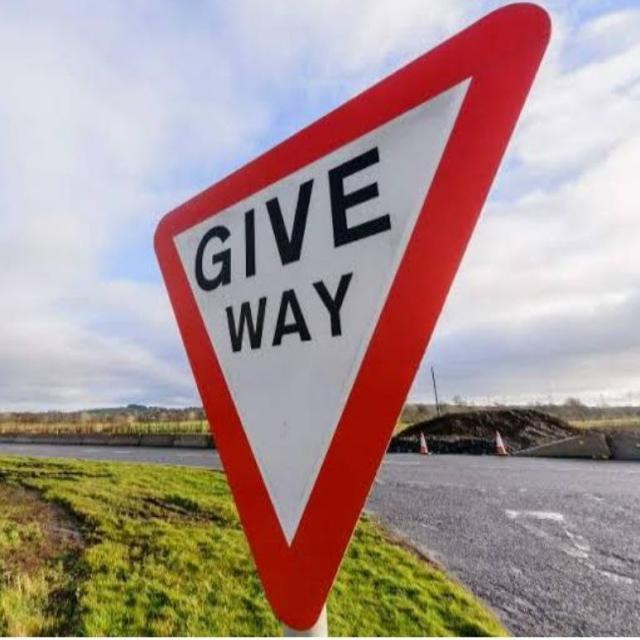give way: (150, 11, 557, 626)
